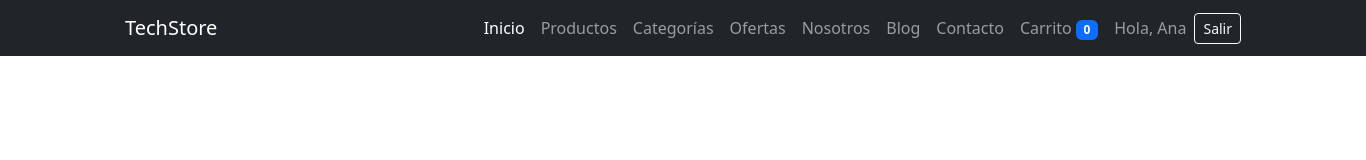
Navbar › cierra la sesión al presionar Salir
The width and height of the screenshot is (1366, 160).
Click the button "Salir" at (1218, 28), box [1194, 13, 1241, 44]
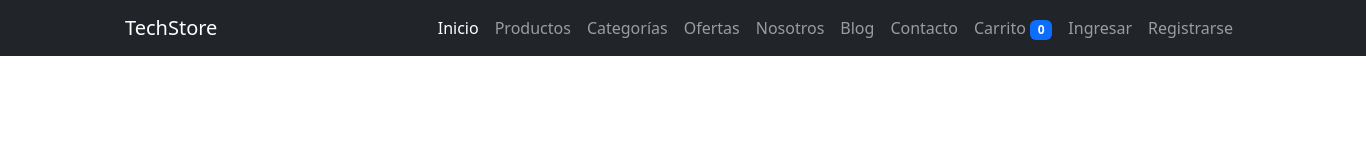
Now the link "Ingresar" is shown, box [1068, 17, 1132, 39]
